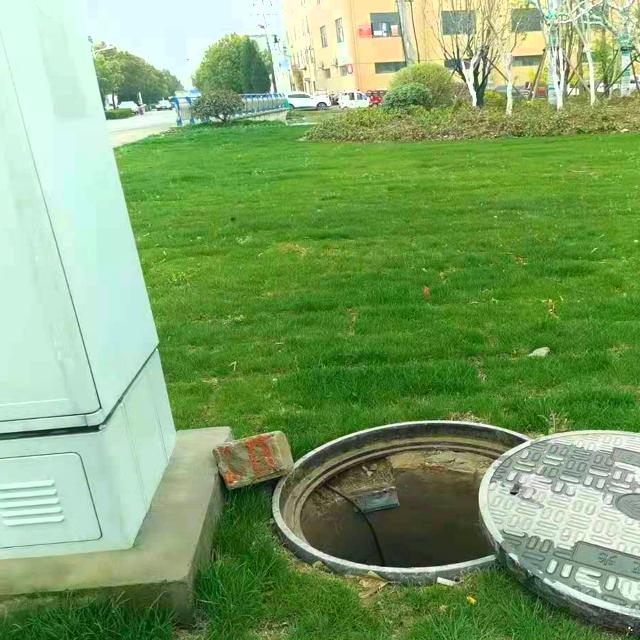uncovered: (264, 404, 640, 622)
